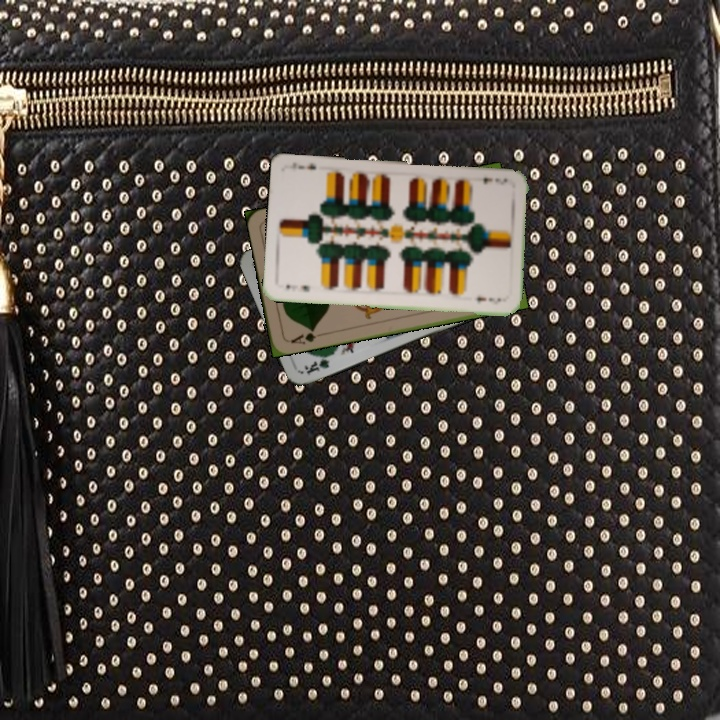E7: (282, 280, 312, 295), (479, 174, 510, 188)
GA: (287, 324, 319, 347)
GK: (300, 350, 335, 377)
